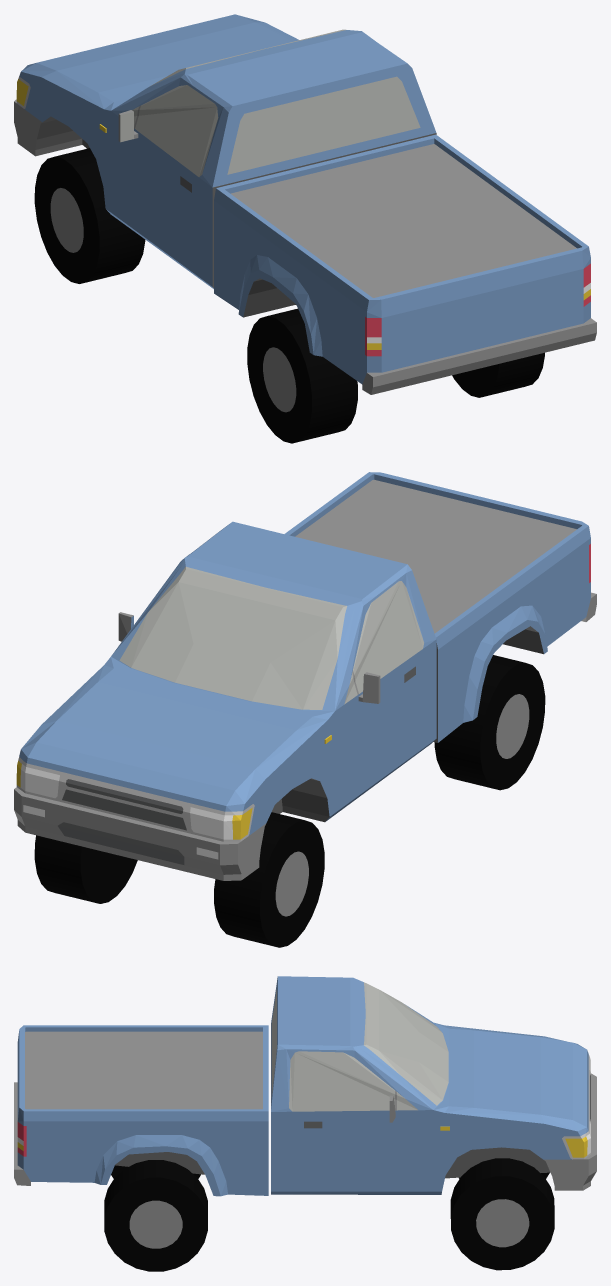
3 views of the same model, one above another, from view 1: azimuth 30°, elevation 25°; view 2: azimuth 150°, elevation 25°; view 3: azimuth 270°, elevation 25° (orthographic). The views are drawn at different scales.
Visible parts, largest first — view 1: Mesh1 Model, Mesh5 Model, Mesh4 Model, Mesh2 Model; view 2: Mesh1 Model, Mesh4 Model, Mesh5 Model, Mesh3 Model; view 3: Mesh1 Model, Mesh3 Model, Mesh2 Model.
Part boxes in pixels (x1=…): Mesh1 Model: x1=14, y1=14, x2=596, y2=394; Mesh5 Model: x1=247, y1=308, x2=357, y2=443; Mesh4 Model: x1=34, y1=148, x2=145, y2=283; Mesh2 Model: x1=452, y1=352, x2=544, y2=397; Mesh1 Model: x1=14, y1=472, x2=596, y2=880; Mesh4 Model: x1=214, y1=812, x2=324, y2=947; Mesh5 Model: x1=434, y1=655, x2=545, y2=790; Mesh3 Model: x1=34, y1=835, x2=137, y2=903; Mesh1 Model: x1=14, y1=976, x2=596, y2=1196; Mesh3 Model: x1=450, y1=1158, x2=554, y2=1270; Mesh2 Model: x1=104, y1=1160, x2=207, y2=1271.
Bounding box in the file's own units: 134 × 133 × 326.
